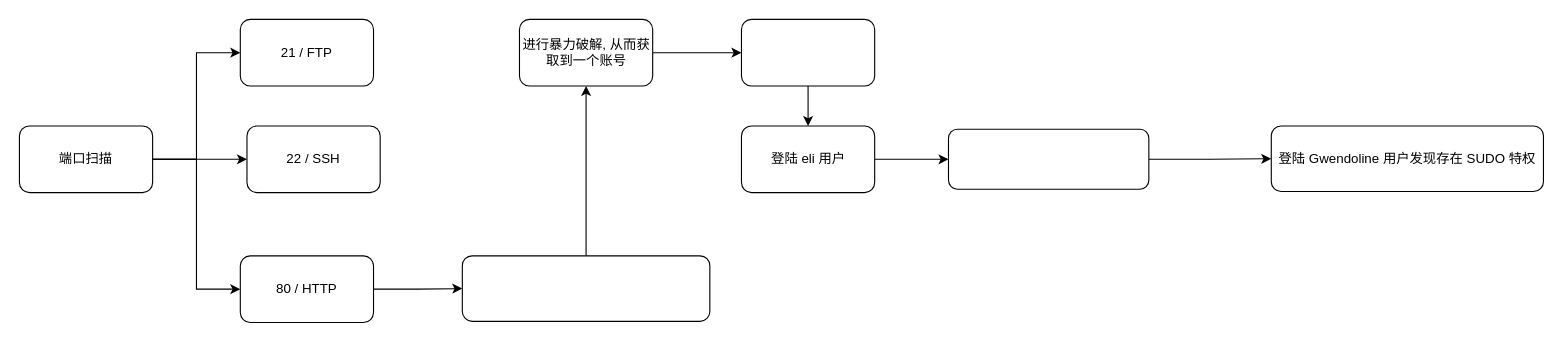
Image size: 1563x342. Some labels were removed from this diagram. The centre of each missing label's shape, as x and y in pixels:
"在登陆信息中提示查看 s3cr3t 文件, 从中获取到 Gwendoline 密码" belongs at point 1048,158.
"登陆之后, 从其中获取到一个加密文件, 解密为 SSH 账号" belongs at point 807,52.
"进行目录扫描以及一系列探测后发现存在一处文件隐写的操作, 从此获取到一个 FTP 的密码表" belongs at point 585,288.
